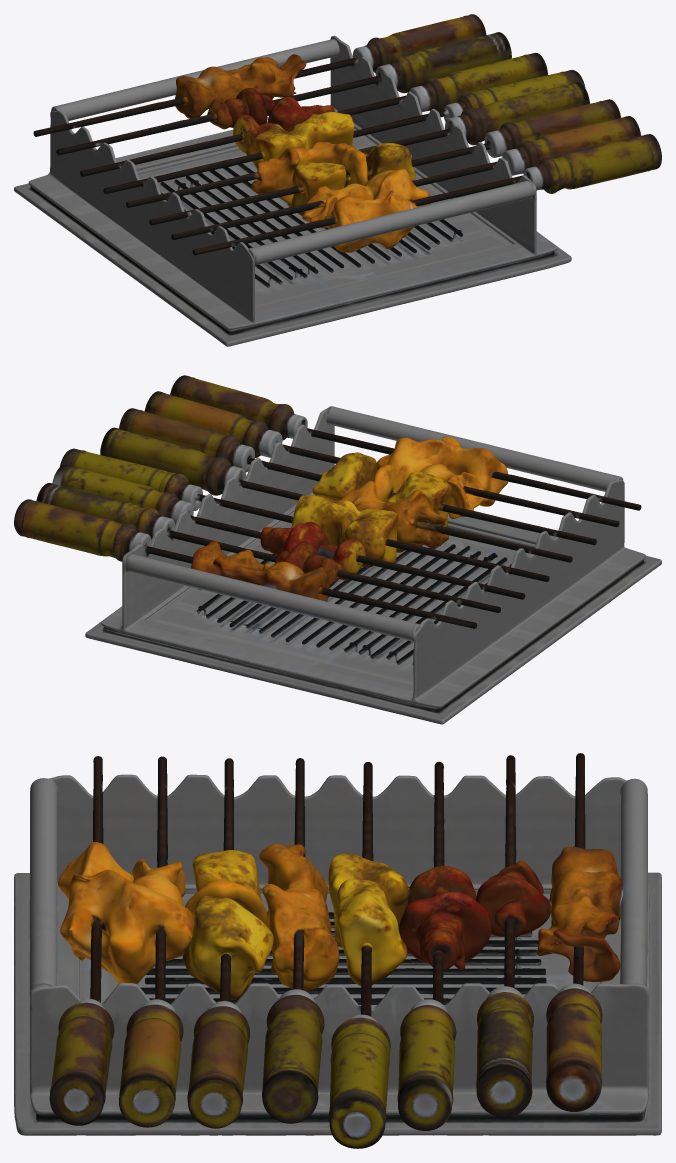
Rendered from grill-v1.glb.
3 renders of one model, top to bottom at view 1: azimuth 30°, elevation 25°; view 2: azimuth 150°, elevation 25°; view 3: azimuth 270°, elevation 25°, orthographic. The views are drawn at different scales.
Visible parts, largest first — view 1: tripo_node_f389d5ad-b77a-4791-9ee5-7638cd678f40; view 2: tripo_node_f389d5ad-b77a-4791-9ee5-7638cd678f40; view 3: tripo_node_f389d5ad-b77a-4791-9ee5-7638cd678f40.
Part boxes in pixels (x1,y1,x2,y2): tripo_node_f389d5ad-b77a-4791-9ee5-7638cd678f40: (14,14,661,346); tripo_node_f389d5ad-b77a-4791-9ee5-7638cd678f40: (14,375,661,724); tripo_node_f389d5ad-b77a-4791-9ee5-7638cd678f40: (14,753,661,1148).
Bounding box in the file's own units: 1 × 0.2002 × 0.787.
Materials: 1 (1 with a texture image).
